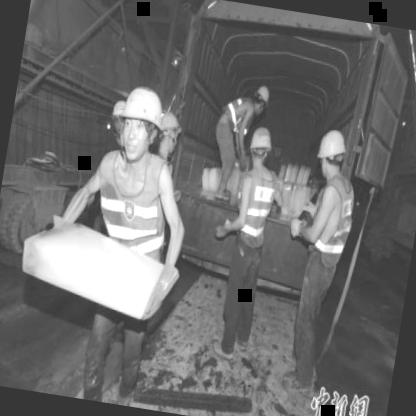helmet: (106, 78, 168, 165), (310, 124, 352, 186), (154, 102, 187, 162), (245, 122, 274, 167), (106, 97, 133, 140), (250, 81, 272, 119)
